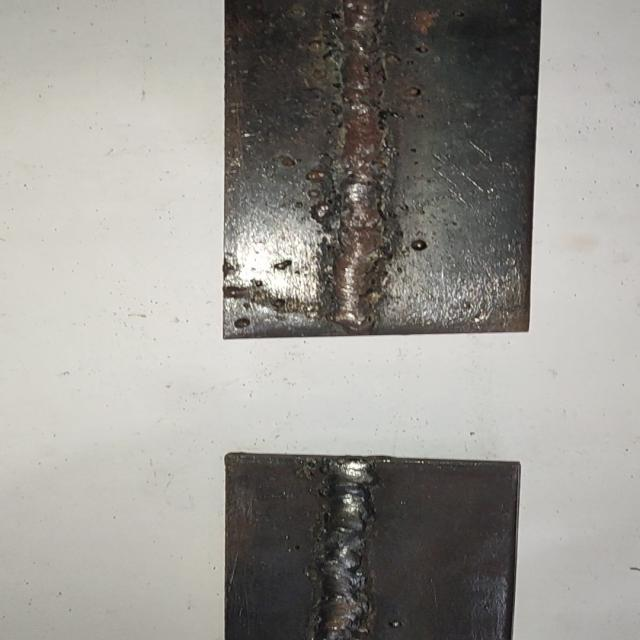Bad Weld: (325, 0, 394, 327)
Defect: (312, 0, 406, 236)
Good Weld: (316, 458, 377, 640)
